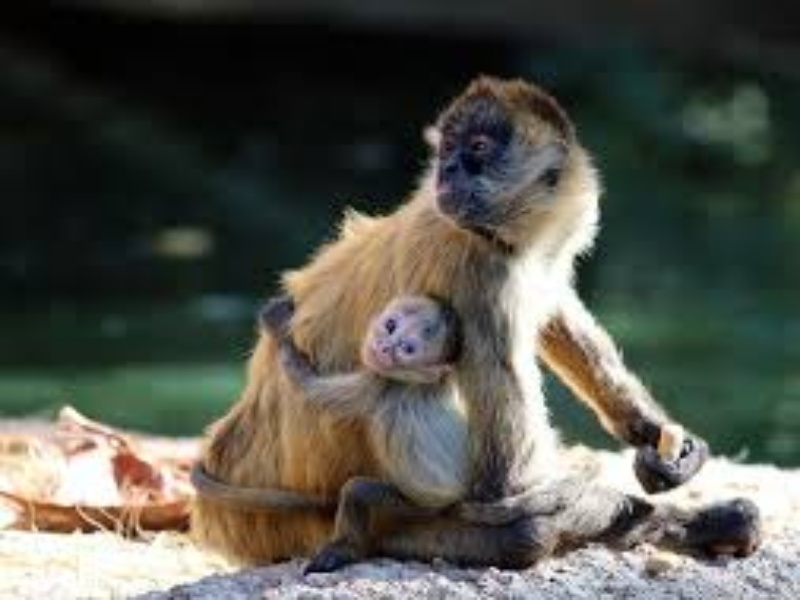monkey: (151, 71, 728, 576)
